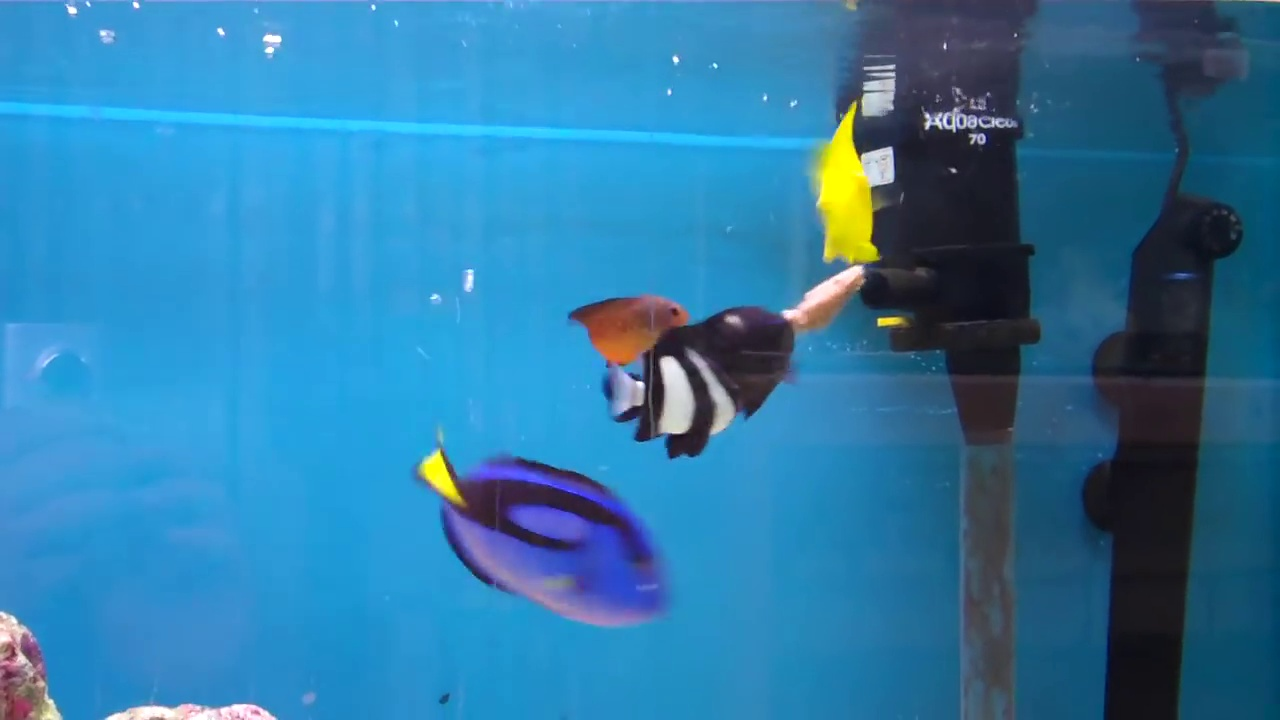blue tang surgeonfish: (399, 398, 685, 632)
